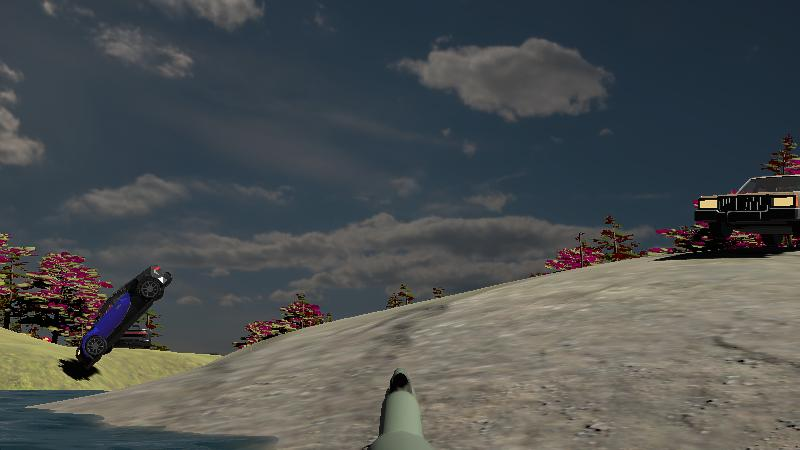car: (693, 173, 800, 248)
